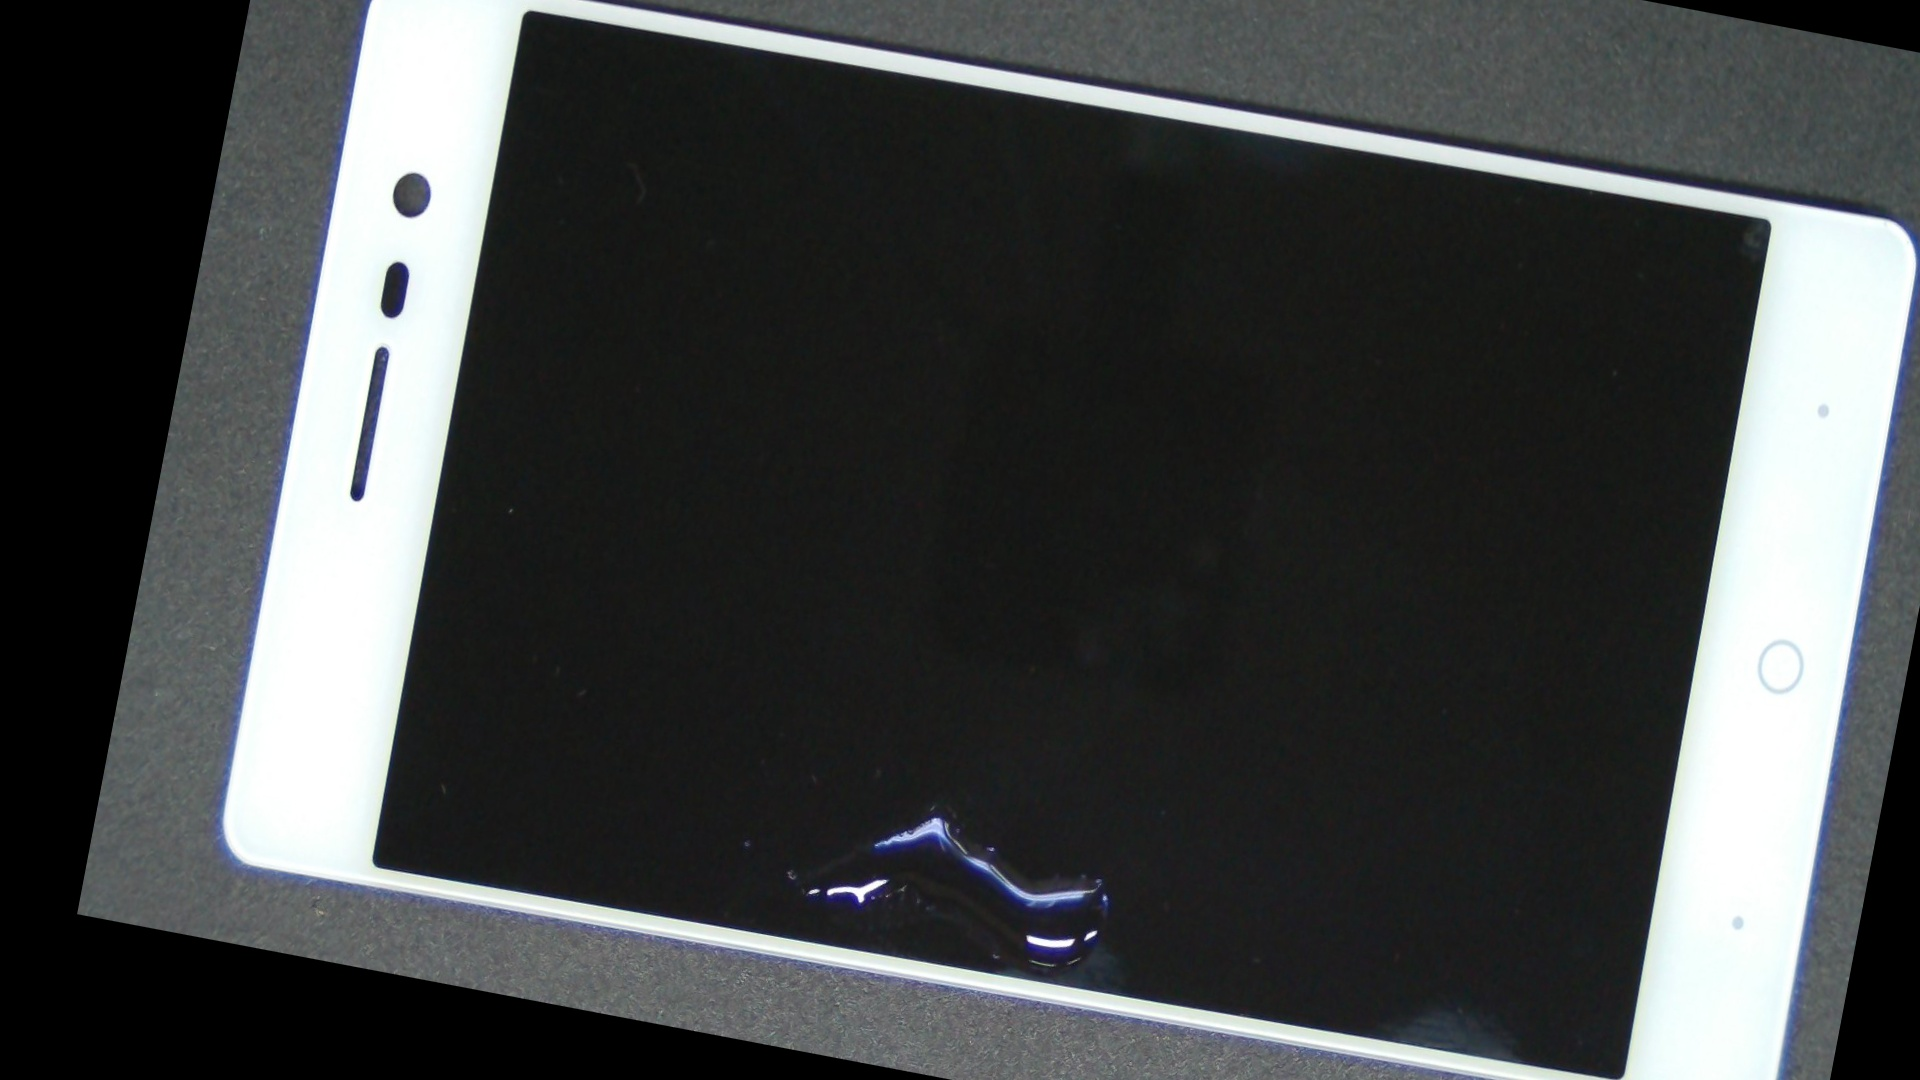oil: (485, 276, 1437, 1080)
